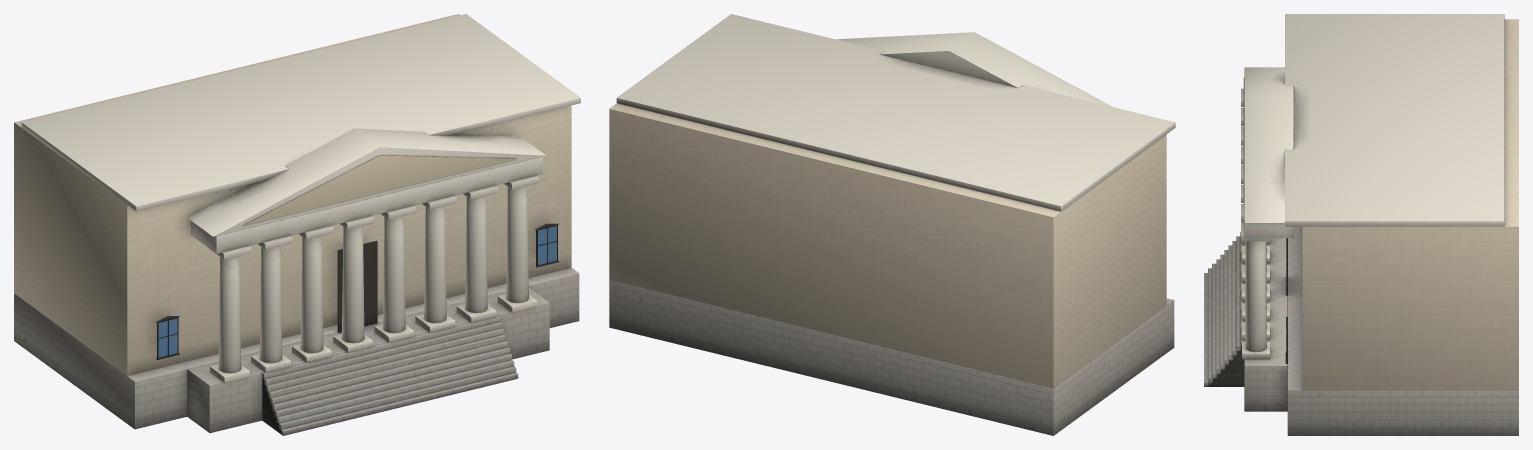
The model's file is archivos_portico.glb.
3 renders of one model, left to right at view 1: azimuth 30°, elevation 25°; view 2: azimuth 150°, elevation 25°; view 3: azimuth 270°, elevation 25°, orthographic. The views are drawn at different scales.
Visible parts, largest first — view 1: archivos_portico; view 2: archivos_portico; view 3: archivos_portico.
Part boxes in pixels (box(x1,y1,x2,y2)): archivos_portico: box(14, 14, 580, 435); archivos_portico: box(609, 14, 1175, 435); archivos_portico: box(1204, 14, 1518, 435).
Bounding box in the file's own units: 34 × 17.9 × 21.8.
Materials: 1 (1 with a texture image).
